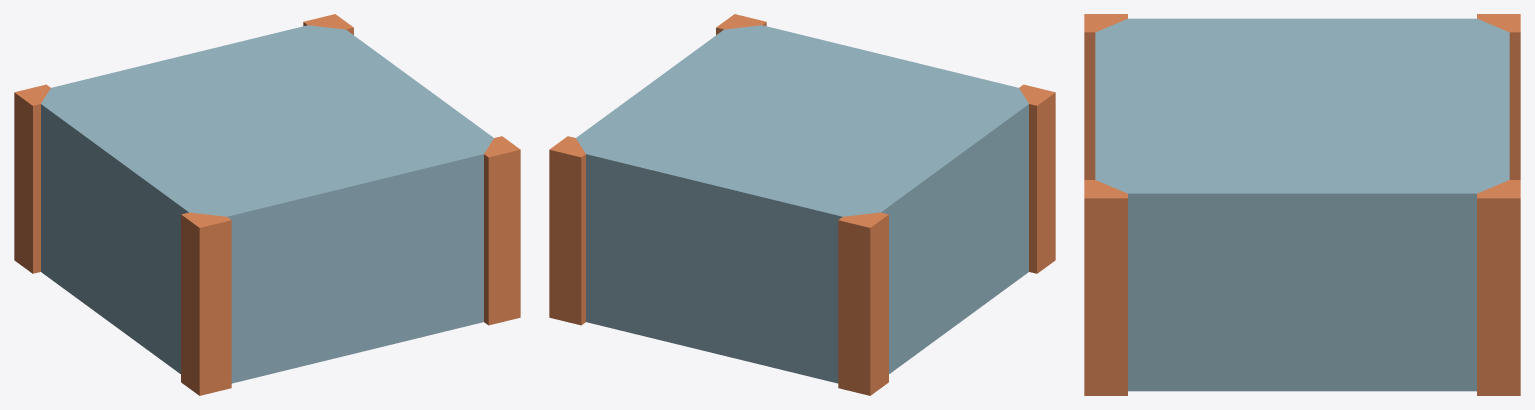
Rendered from wallBlockHalf.fbx.
The picture shows the model from 3 angles, left to right: view 1: azimuth 30°, elevation 25°; view 2: azimuth 150°, elevation 25°; view 3: azimuth 270°, elevation 25°; orthographic projection. The views are drawn at different scales.
Visible parts, largest first — view 1: wallBlockHalf; view 2: wallBlockHalf; view 3: wallBlockHalf.
Part boxes in pixels (<box>): wallBlockHalf: <box>14,14,520,395</box>; wallBlockHalf: <box>549,14,1055,395</box>; wallBlockHalf: <box>1084,14,1520,395</box>.
Size of the model in its own units: 10 by 5 by 10.
